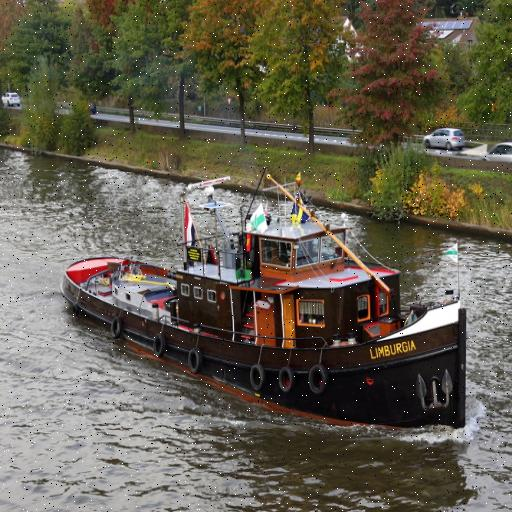tugboat: (59, 166, 473, 449)
